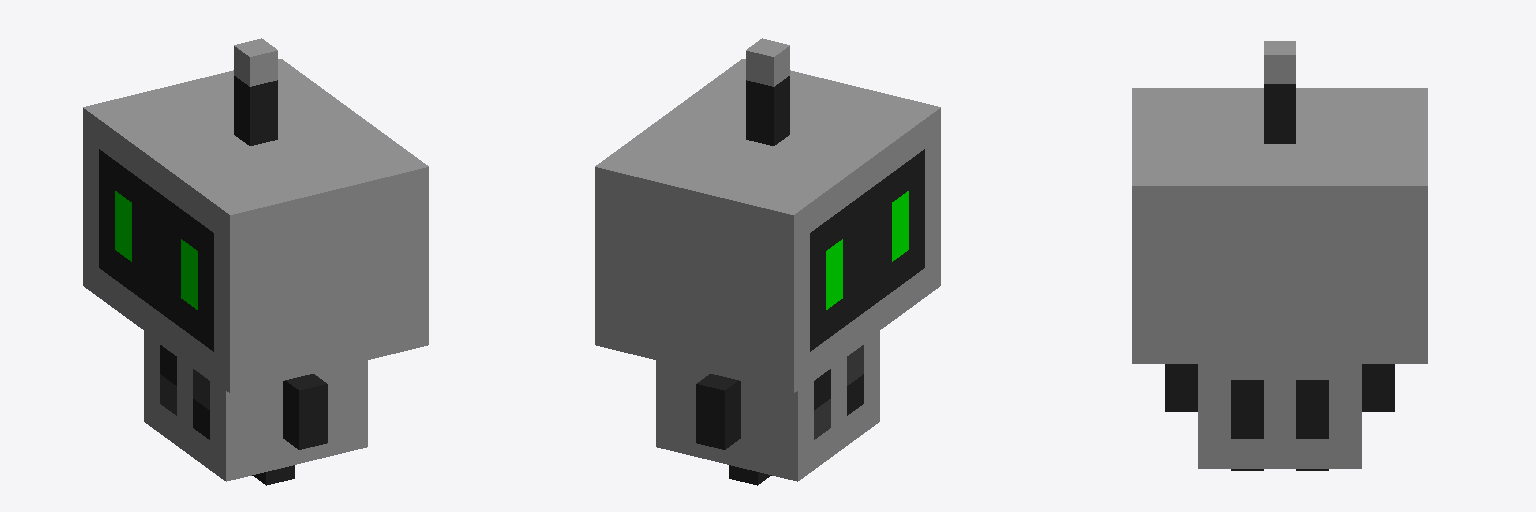
3 views of the same model, side by side, from view 1: azimuth 30°, elevation 25°; view 2: azimuth 150°, elevation 25°; view 3: azimuth 270°, elevation 25° (orthographic).
Parts seen in each view (by area): view 1: Robot; view 2: Robot; view 3: Robot.
Boxes of the visible parts, <box> form: Robot: <box>83,38,428,485</box>; Robot: <box>595,38,940,485</box>; Robot: <box>1132,41,1427,470</box>.
Bounding box in the file's own units: 0.1483 × 0.2965 × 0.1906.
1 materials, 1 textured.